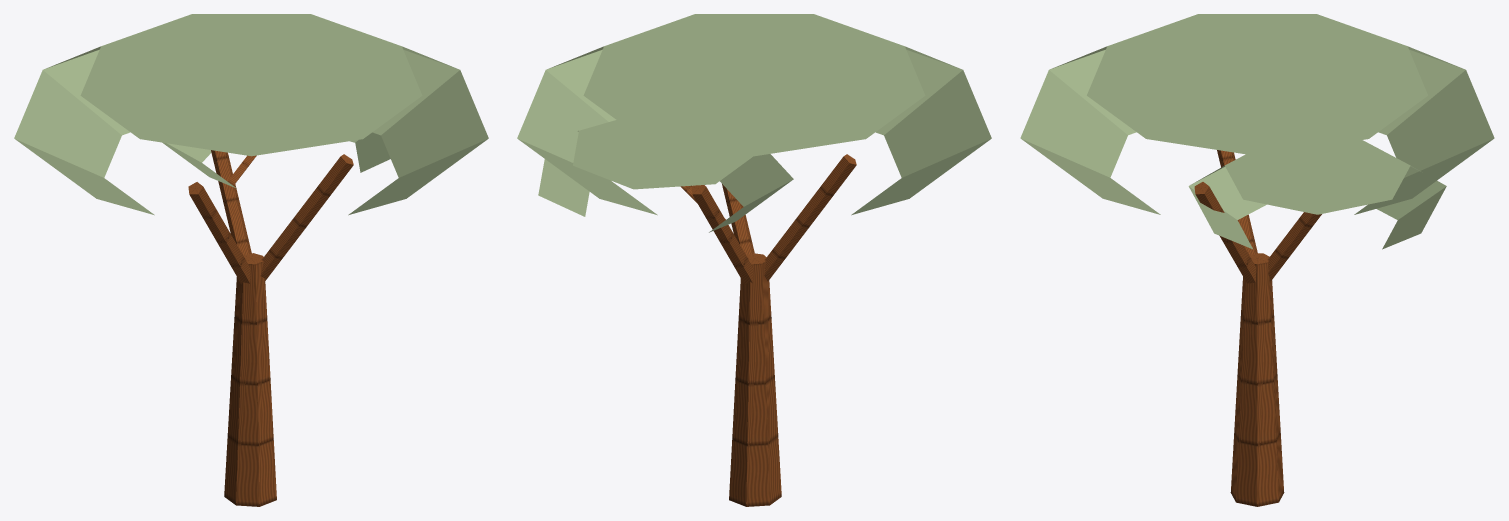
Rendered from safari-camp-and-bush-lodge-acacia-tree-large-316a625e__37713.glb.
3 renders of one model, left to right at view 1: azimuth 30°, elevation 25°; view 2: azimuth 150°, elevation 25°; view 3: azimuth 270°, elevation 25°, orthographic.
Visible parts, largest first — view 1: acacia-tree-large-scrub, acacia-tree-large-timber; view 2: acacia-tree-large-scrub, acacia-tree-large-timber; view 3: acacia-tree-large-scrub, acacia-tree-large-timber.
Boxes of the visible parts, bbox=[...] form: acacia-tree-large-scrub: bbox=[14, 14, 488, 215]; acacia-tree-large-timber: bbox=[188, 150, 353, 506]; acacia-tree-large-scrub: bbox=[517, 14, 991, 232]; acacia-tree-large-timber: bbox=[680, 154, 856, 506]; acacia-tree-large-scrub: bbox=[1020, 14, 1494, 249]; acacia-tree-large-timber: bbox=[1194, 150, 1321, 506].
Bounding box in the file's own units: 7.76 × 7.56 × 7.88.
2 materials, 1 textured.
